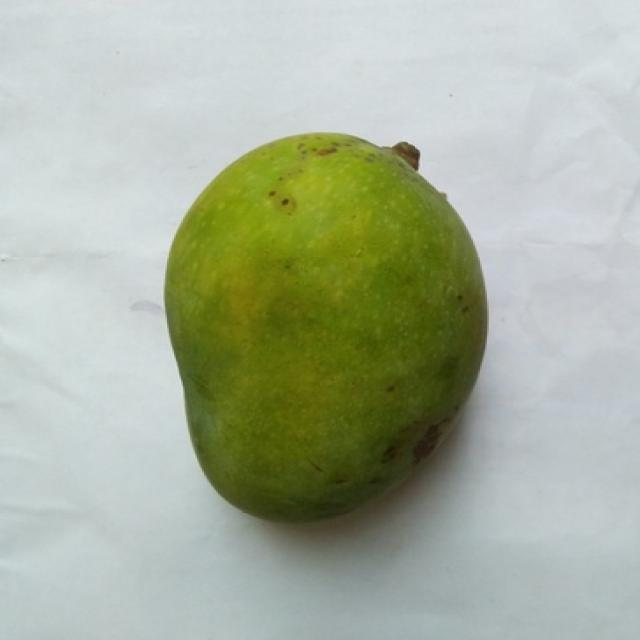Mango: (167, 134, 485, 520)
